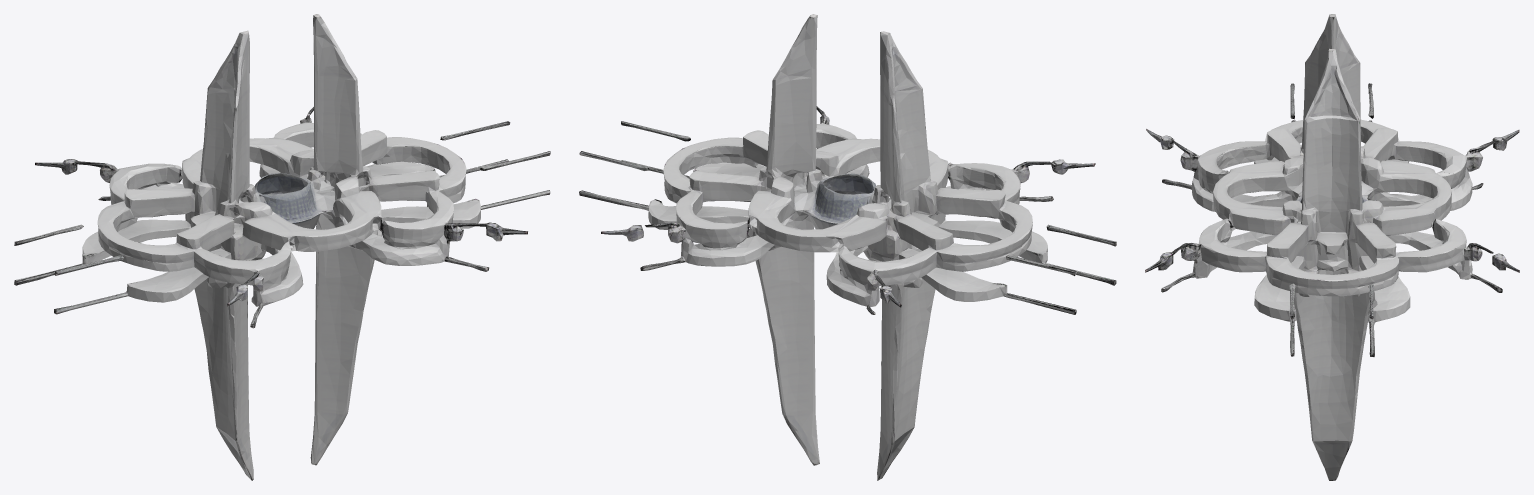
The model's file is Station4.glb.
3 views of the same model, side by side, from view 1: azimuth 30°, elevation 25°; view 2: azimuth 150°, elevation 25°; view 3: azimuth 270°, elevation 25° (orthographic). The views are drawn at different scales.
Parts seen in each view (by area): view 1: world; view 2: world; view 3: world.
Boxes of the visible parts, box(x1,y1,x2,y2) form: world: box(14, 14, 550, 480); world: box(579, 14, 1116, 480); world: box(1145, 14, 1519, 480).
Size of the model in its own units: 1 by 0.8678 by 0.6808.
1 material, 1 textured.
